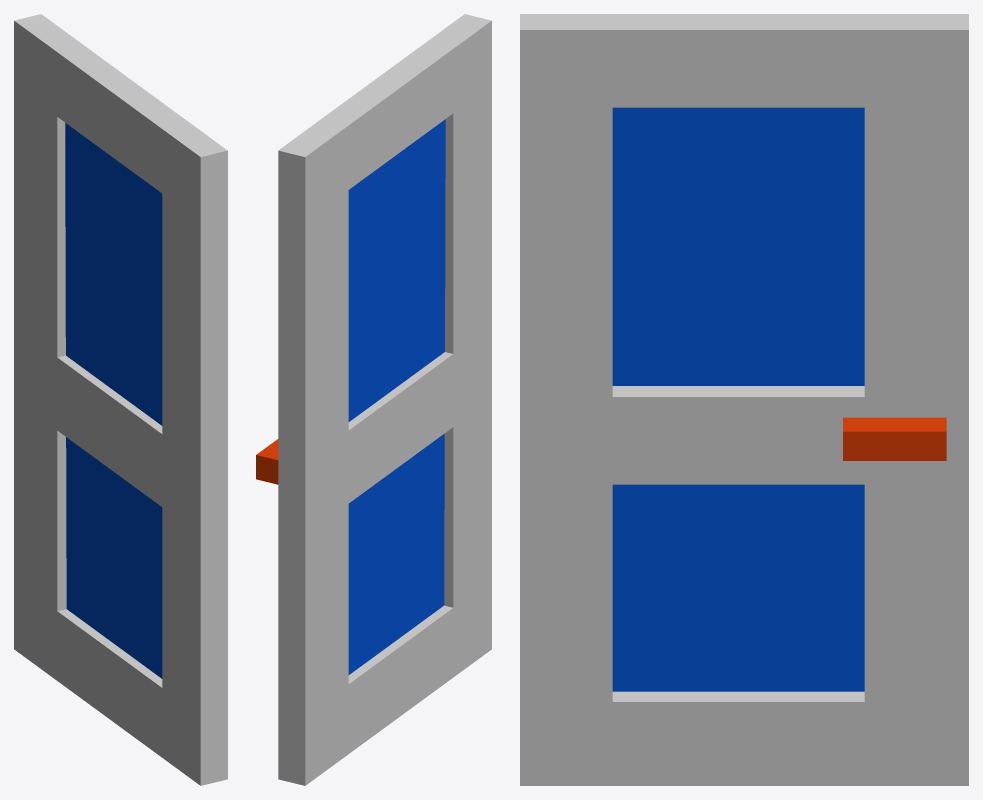
Rendered from Door.fbx.
3 renders of one model, left to right at view 1: azimuth 30°, elevation 25°; view 2: azimuth 150°, elevation 25°; view 3: azimuth 270°, elevation 25°, orthographic. The views are drawn at different scales.
Parts seen in each view (by area): view 1: Cube; view 2: Cube; view 3: Cube.
Boxes of the visible parts, box(x1,y1,x2,y2) form: Cube: box(14, 14, 227, 785); Cube: box(256, 14, 491, 785); Cube: box(520, 14, 968, 785).
Size of the model in its own units: 175 by 1801 by 969.
